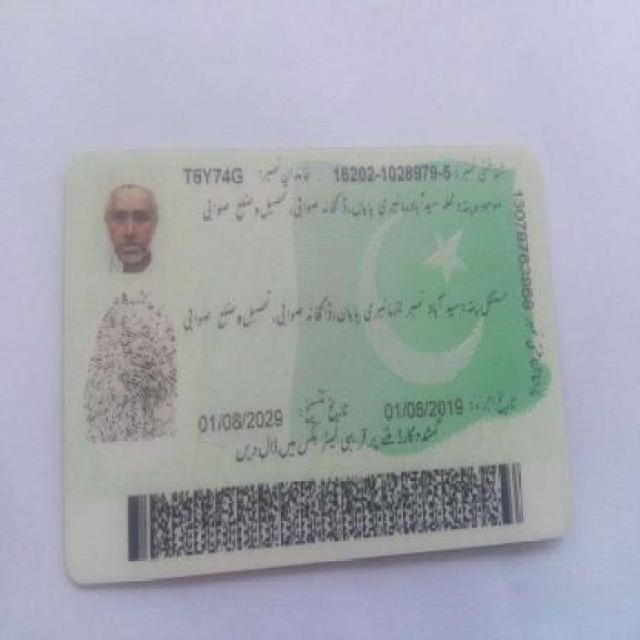Back: (64, 142, 570, 560)
